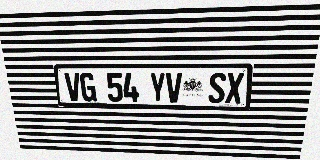4: (122, 73, 139, 102)
5: (106, 73, 123, 102)
G: (79, 73, 97, 101)
S: (208, 73, 226, 103)
V: (64, 73, 82, 101), (166, 73, 182, 103)
X: (225, 73, 244, 103)
Y: (149, 73, 165, 102)
